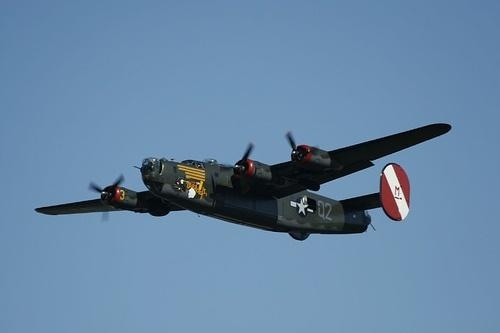aeroplane: (35, 121, 454, 245)
